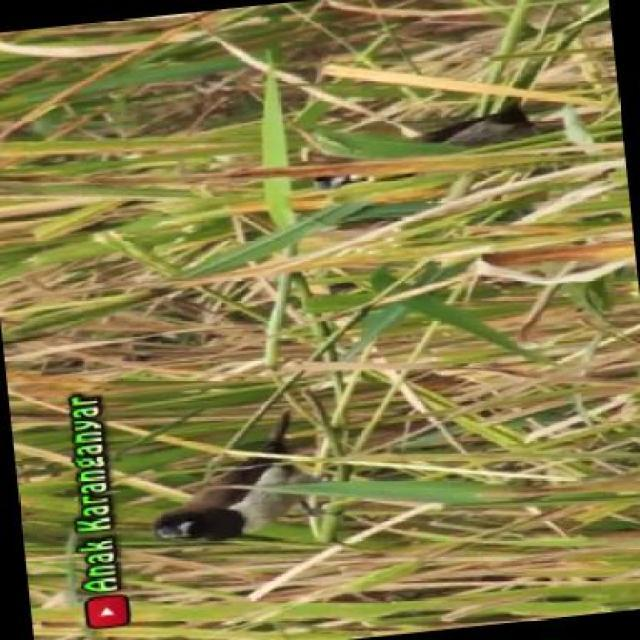Bird: (156, 399, 315, 563)
